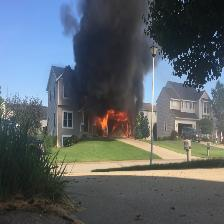fire: (98, 113, 134, 137)
smoke: (88, 0, 140, 105)
